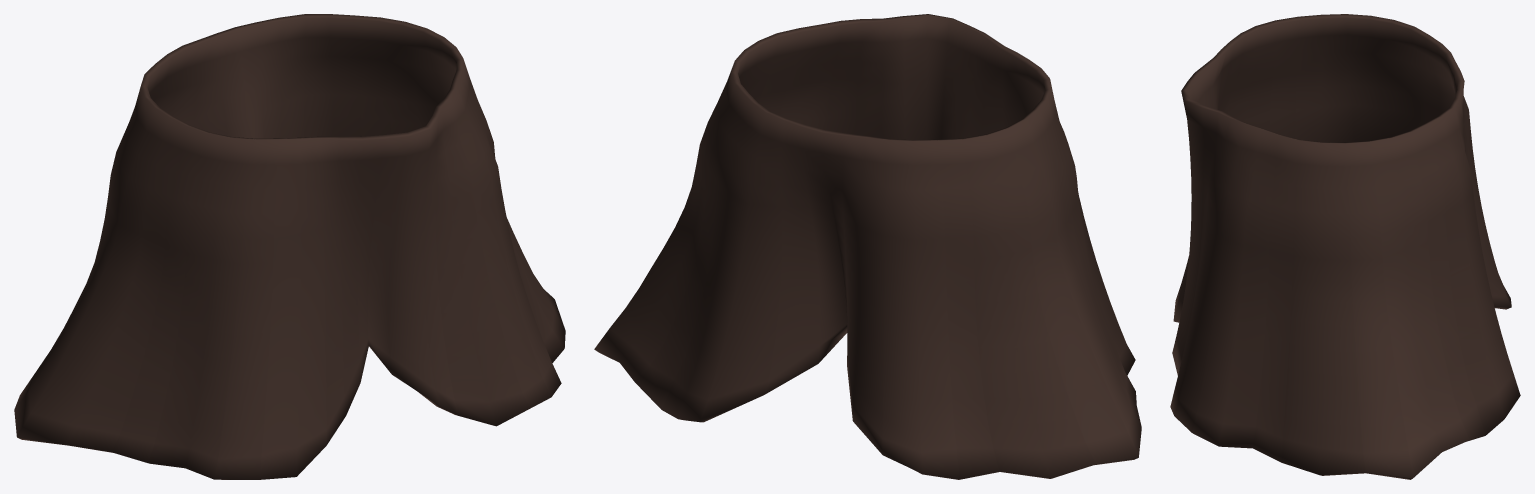
Rendered from chiripa_poblador_3.glb.
3 views of the same model, side by side, from view 1: azimuth 30°, elevation 25°; view 2: azimuth 150°, elevation 25°; view 3: azimuth 270°, elevation 25° (orthographic). The views are drawn at different scales.
Visible parts, largest first — view 1: chiripa_poblador_3; view 2: chiripa_poblador_3; view 3: chiripa_poblador_3.
Part boxes in pixels (x1,y1,x2,y2): chiripa_poblador_3: (14,14,565,479); chiripa_poblador_3: (594,14,1141,479); chiripa_poblador_3: (1170,14,1520,479).
Size of the model in its own units: 0.7469 by 0.4218 by 0.4603.
